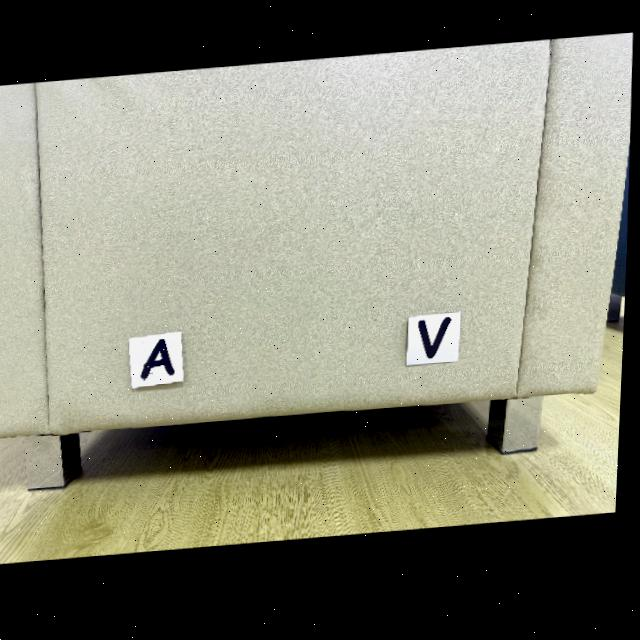A: (144, 341, 178, 381)
V: (421, 323, 454, 364)
